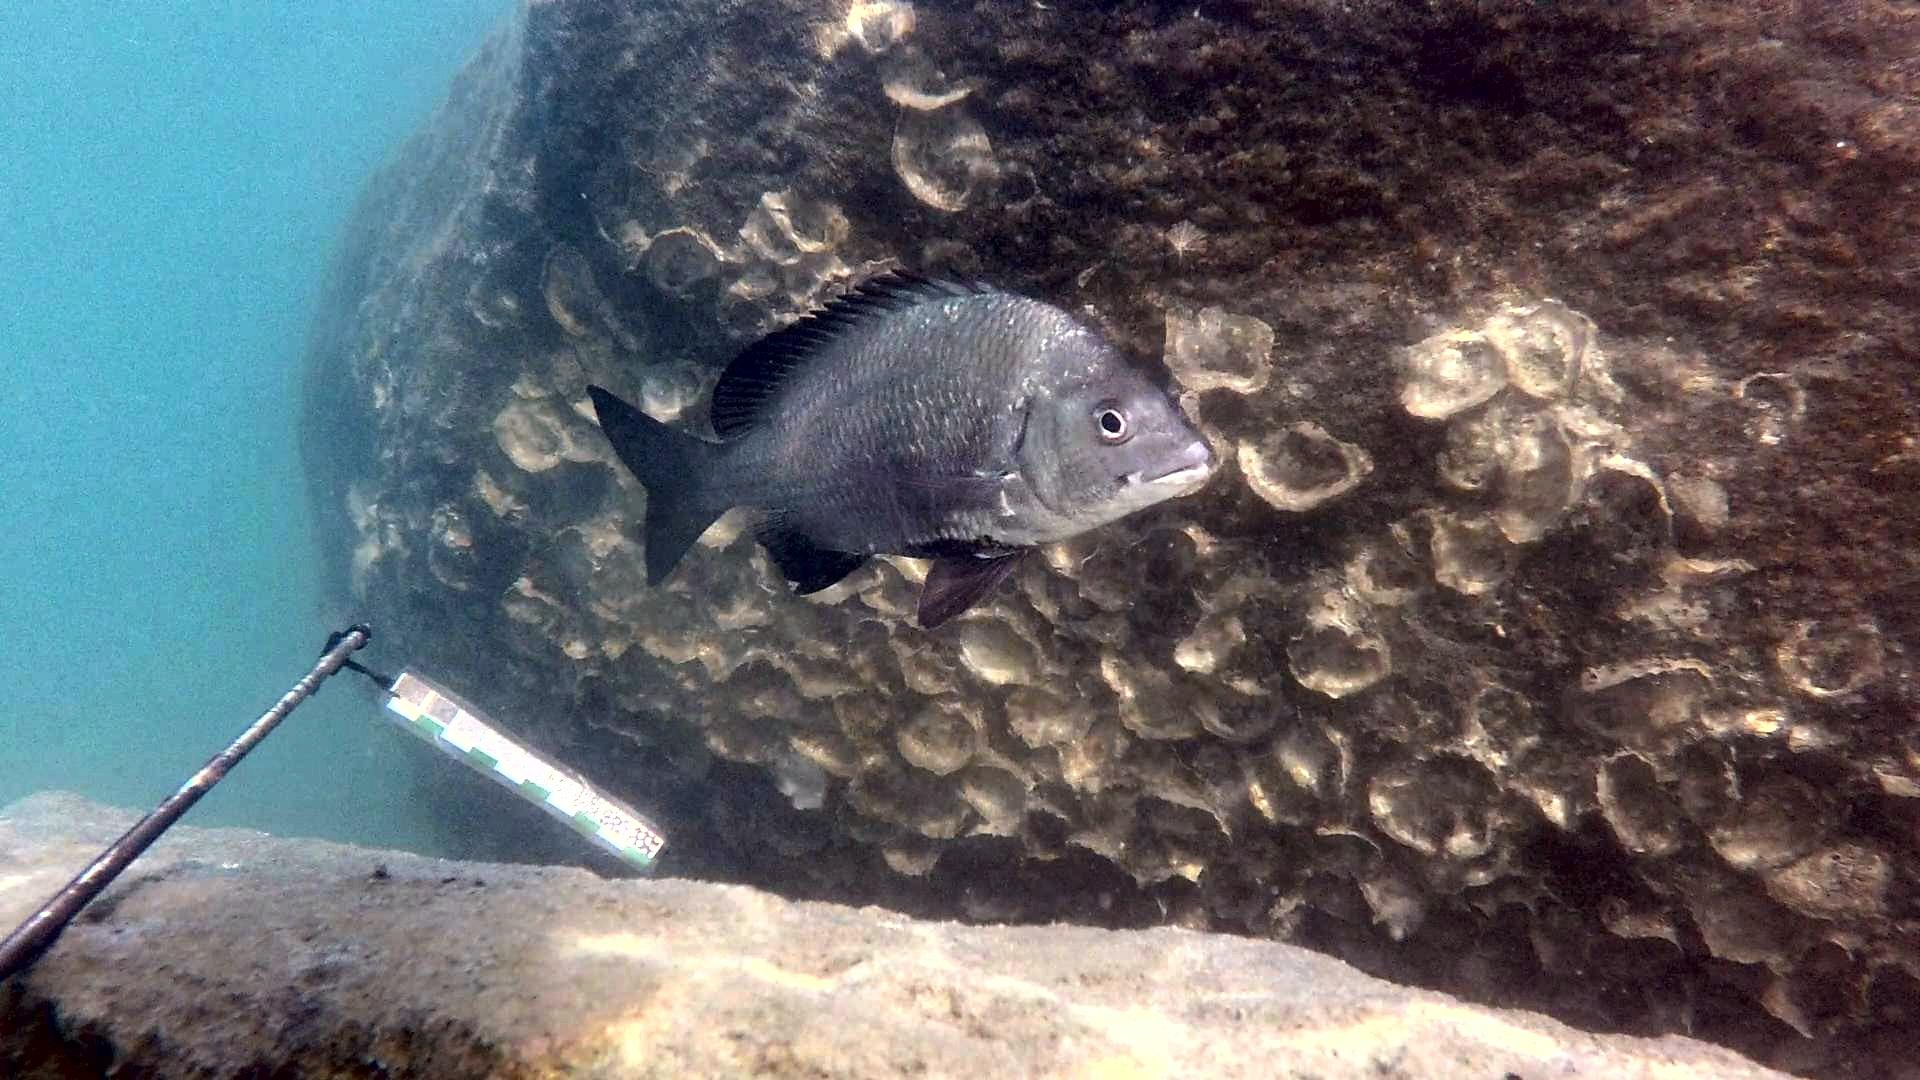acanthopagrus palmaris: (582, 257, 1220, 640)
